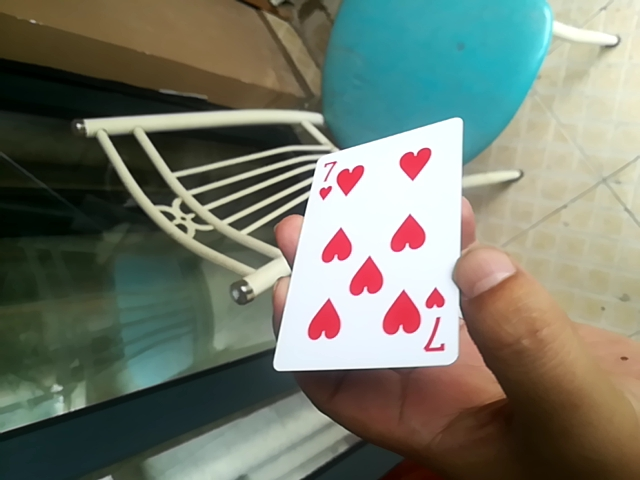hx 7: (268, 112, 461, 370)
